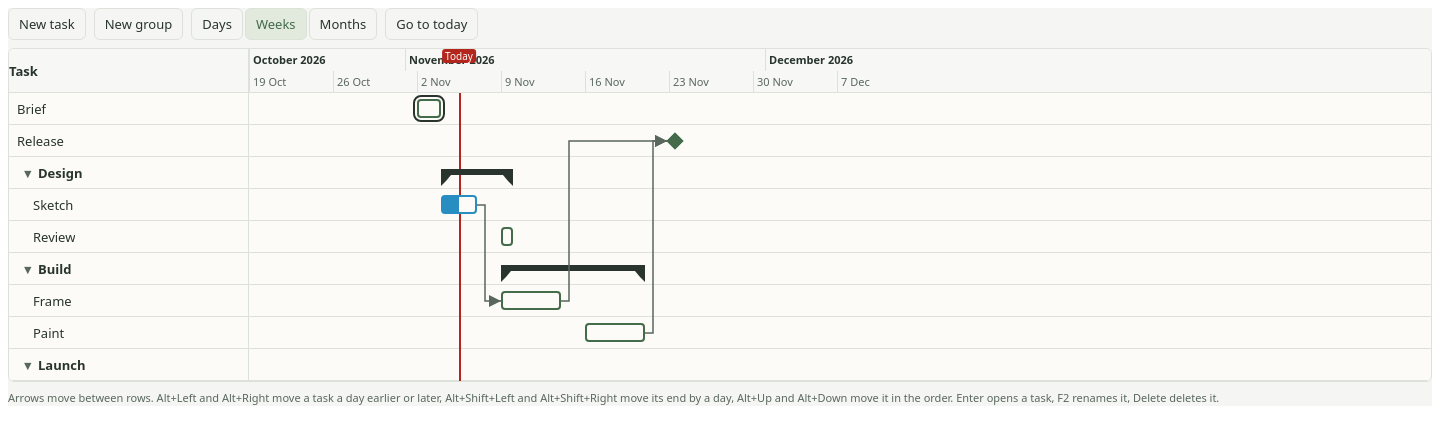
it: renaming › renames a task with F2, and Escape keeps its name
Press F2 in the button named "Brief", box x1=417 y1=99 x2=441 y2=118
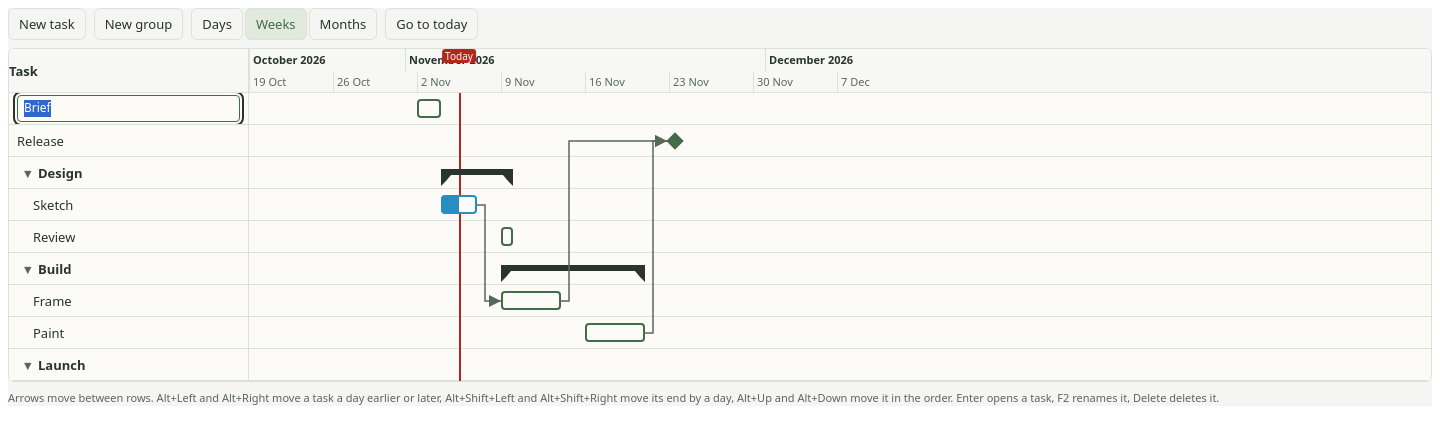
Press Escape in the field named "Name of Brief", box x1=17 y1=95 x2=240 y2=122
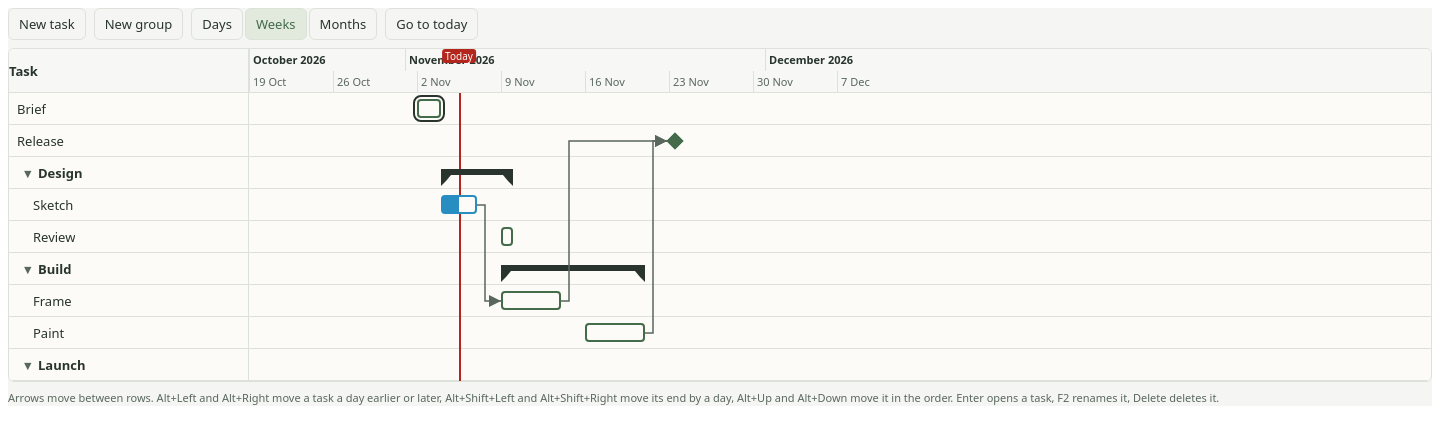
Expected: the text "Brief" is shown, x1=17 y1=100 x2=46 y2=118
Press F2 in the button named "Brief", box x1=417 y1=99 x2=441 y2=118
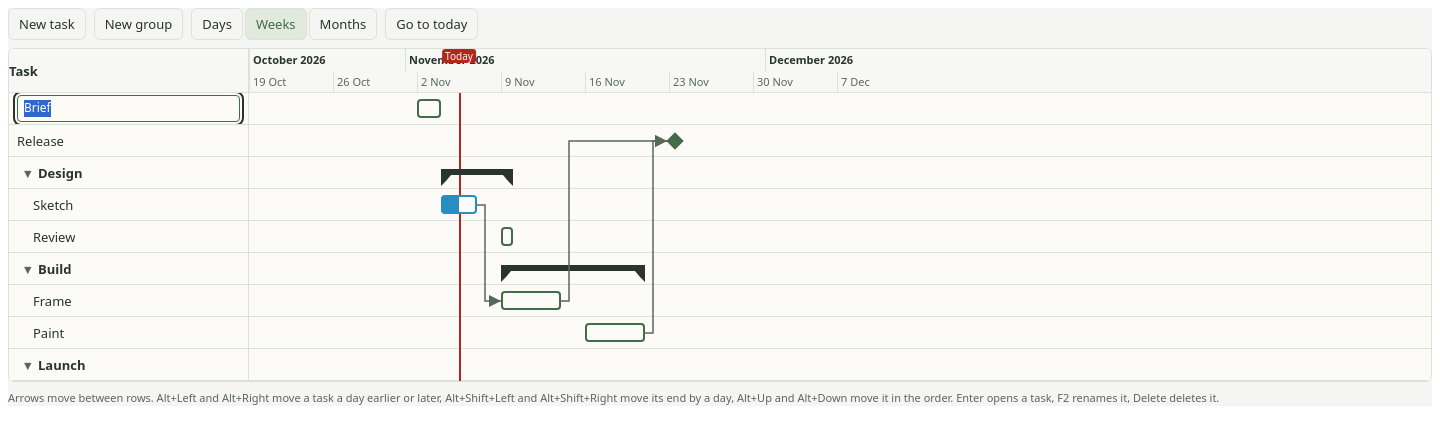
Replace the text in the field named "Name of Brief" with "Briefing" at (128, 109), box x1=17 y1=95 x2=240 y2=122
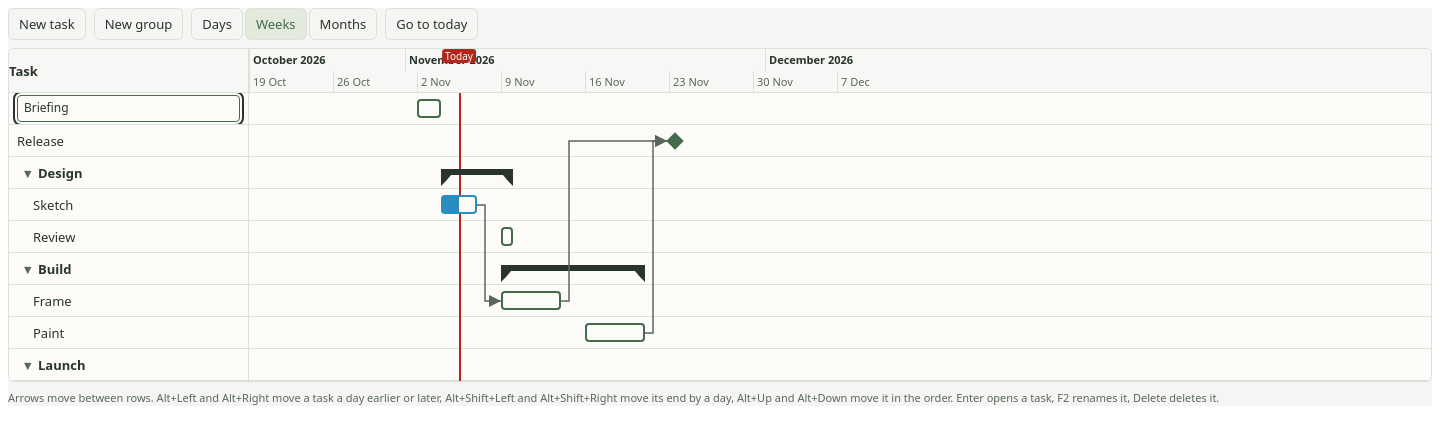
Press Enter in the field named "Name of Brief", box x1=17 y1=95 x2=240 y2=122
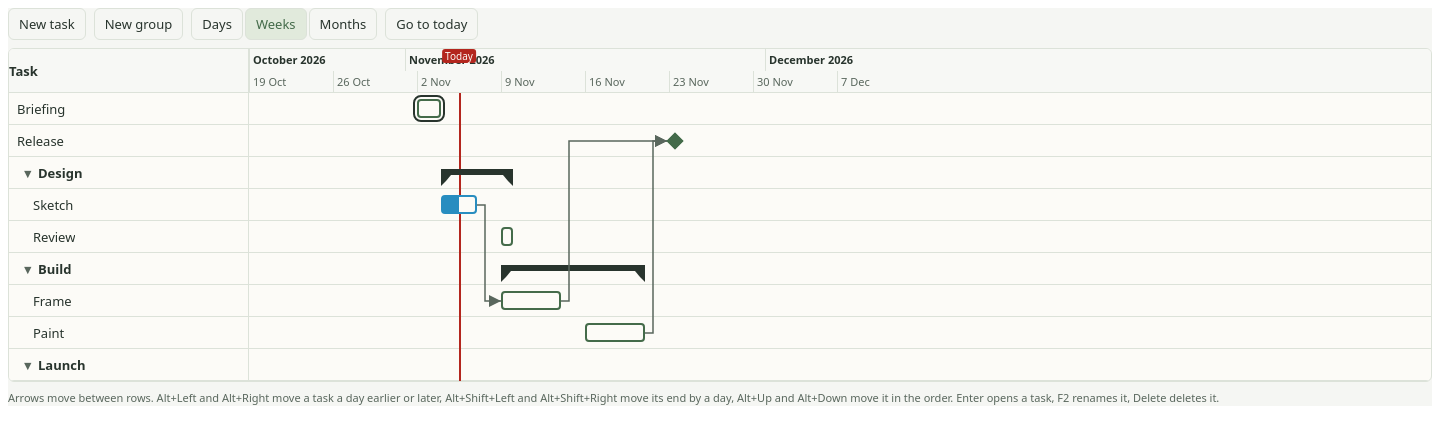
Expected: the text "Briefing" is shown, x1=17 y1=100 x2=65 y2=118
